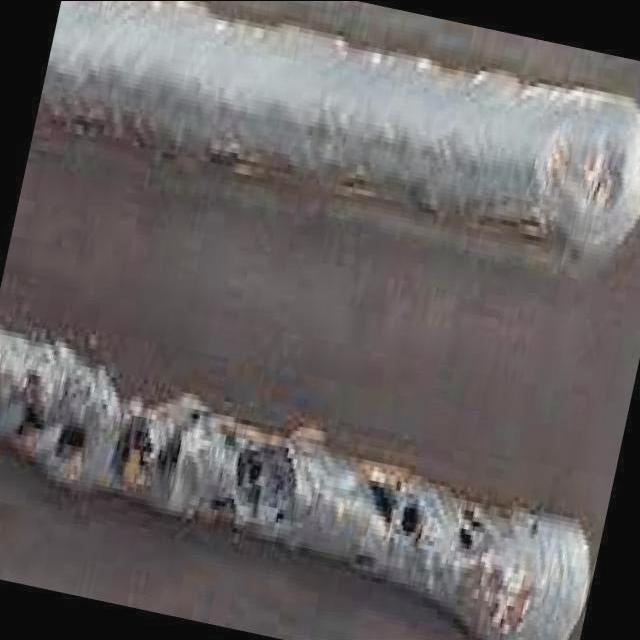defect: (361, 474, 430, 548), (115, 410, 183, 478), (231, 442, 266, 538), (13, 361, 51, 442), (52, 410, 88, 463), (268, 464, 292, 532), (456, 502, 485, 557), (186, 400, 206, 425), (528, 510, 543, 539)
